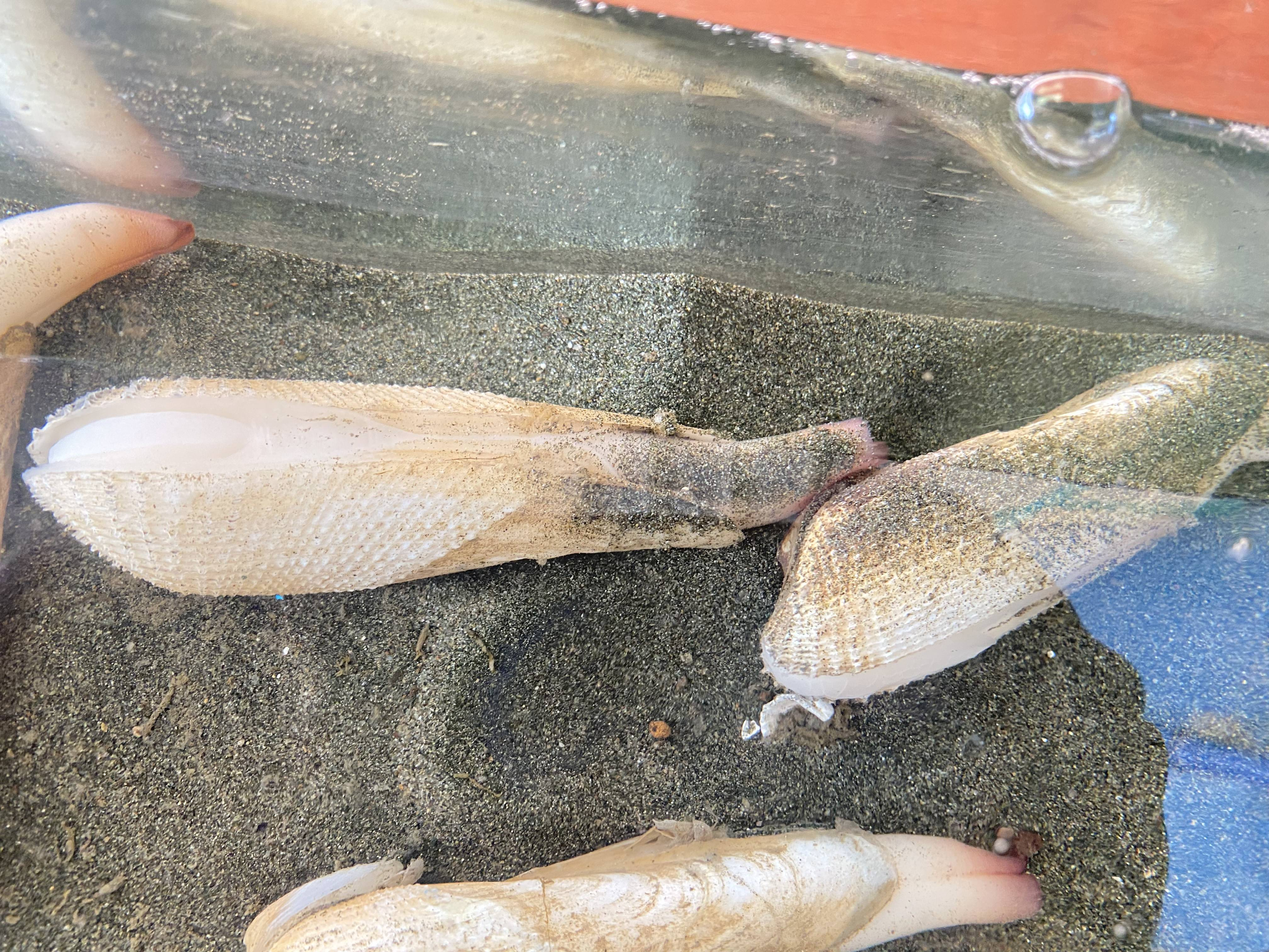Healthy: (24, 378, 883, 595), (246, 822, 1041, 952), (0, 204, 193, 360)
